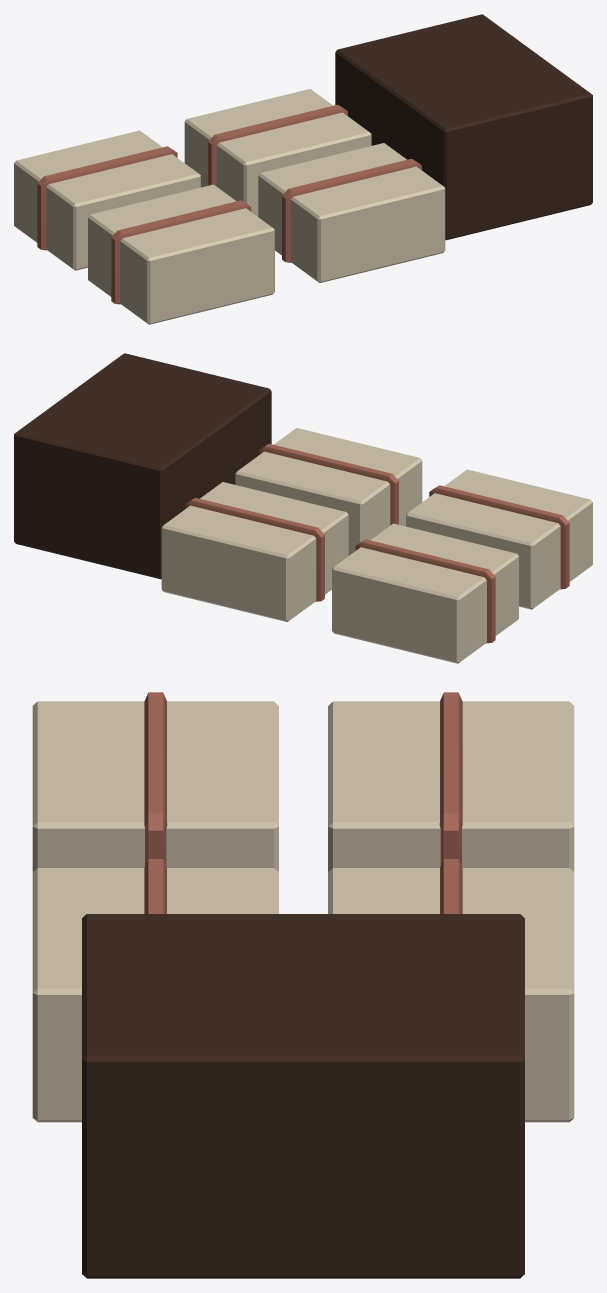
Rendered from prop_gift_boxes.glb.
3 renders of one model, top to bottom at view 1: azimuth 30°, elevation 25°; view 2: azimuth 150°, elevation 25°; view 3: azimuth 270°, elevation 25°, orthographic. The views are drawn at different scales.
Visible parts, largest first — view 1: Gifts; view 2: Gifts; view 3: Gifts.
Part boxes in pixels (<box>): Gifts: <box>14,14,592,324</box>; Gifts: <box>14,353,592,663</box>; Gifts: <box>32,692,574,1278</box>.
Bounding box in the file's own units: 0.434 × 0.1 × 0.22.
